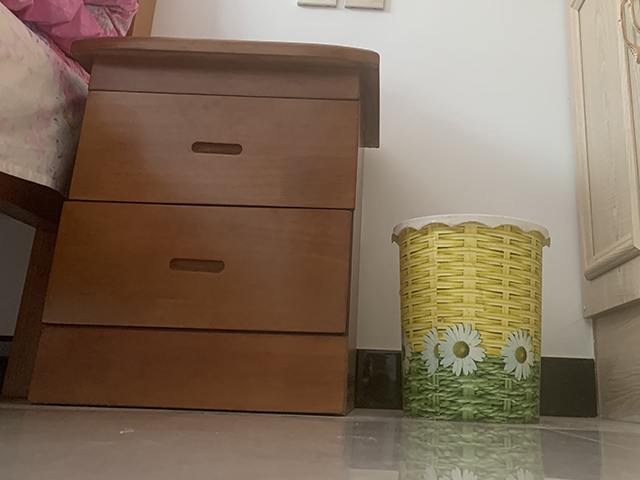cabinet: (26, 35, 380, 417)
trashcan: (390, 212, 552, 427)
